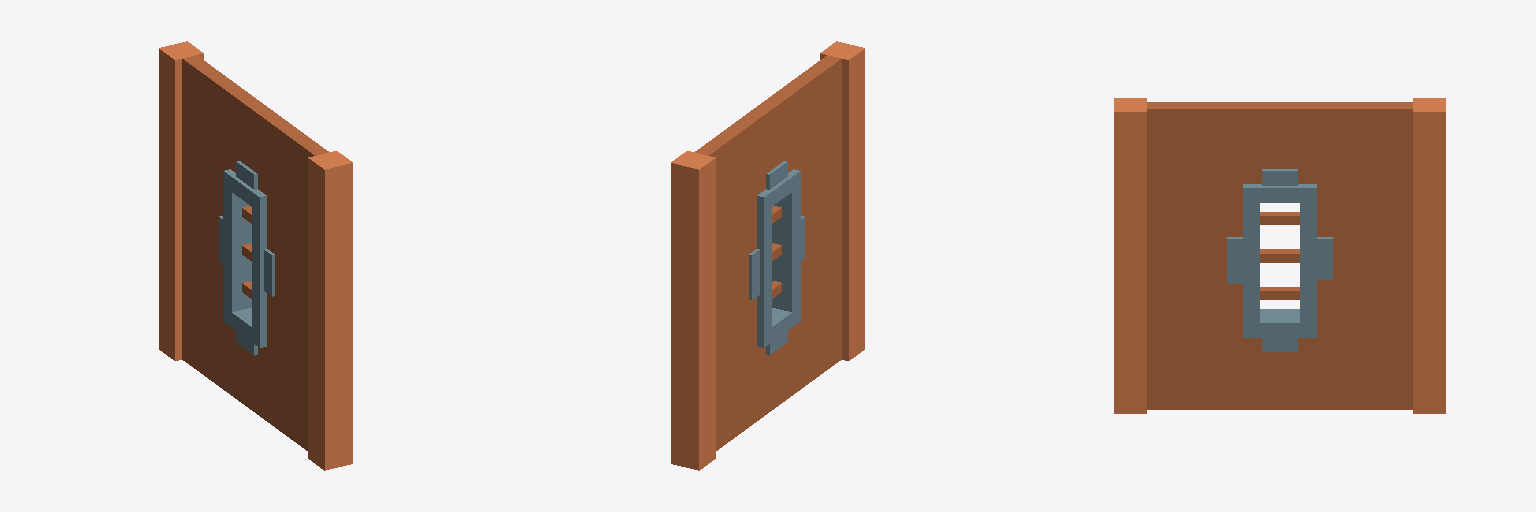
File: wallWoodWindowStone.obj
3 renders of one model, left to right at view 1: azimuth 30°, elevation 25°; view 2: azimuth 150°, elevation 25°; view 3: azimuth 270°, elevation 25°, orthographic.
Visible parts, largest first — view 1: wallWoodWindowStone; view 2: wallWoodWindowStone; view 3: wallWoodWindowStone.
Part boxes in pixels (x1,y1,x2,y2): wallWoodWindowStone: (159,41,352,470); wallWoodWindowStone: (671,41,864,470); wallWoodWindowStone: (1114,98,1445,413).
Bounding box in the file's own units: 0.1 × 1 × 1.